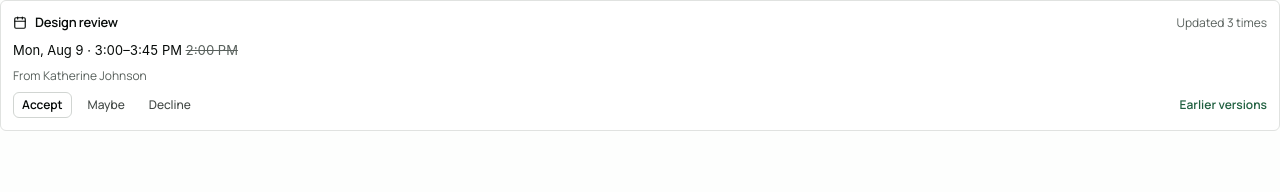
CalendarInvitationCard (an invite that changed) › says how often it changed, strikes the earlier time and lists the earlier versions
Expected: the text "Updated 3 times" is shown, [1176, 15, 1267, 31]
Click the button "Earlier versions".
click(1223, 105)  # box [1180, 97, 1267, 113]
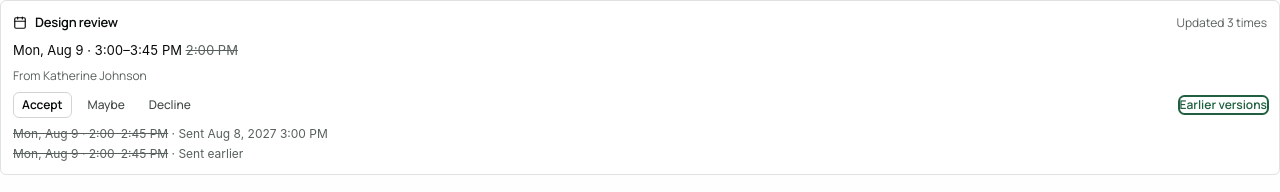
Now the text "Mon, Aug 9 · 2:00–2:45 PM" next to "Sent Aug 8, 2027 3:00 PM" is shown, box [13, 126, 168, 141]
Click the button "Earlier versions".
click(1223, 105)  # box [1180, 97, 1267, 113]
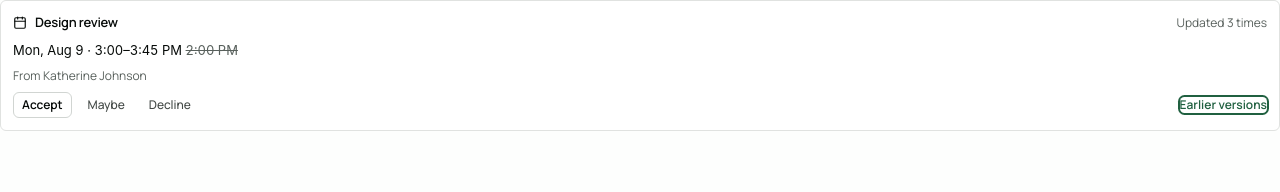
Now the list is gone
